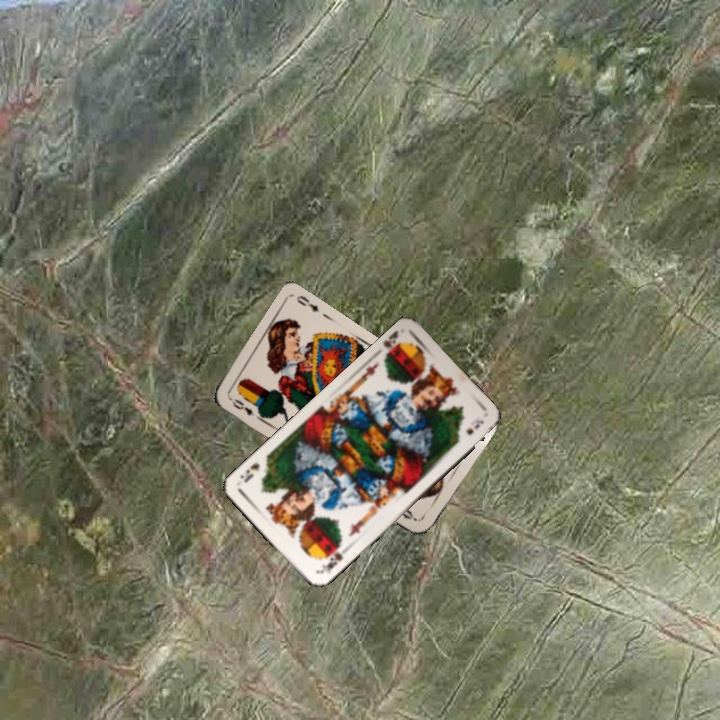EO: (225, 393, 257, 419)
SK: (314, 541, 350, 577), (379, 327, 404, 363)
